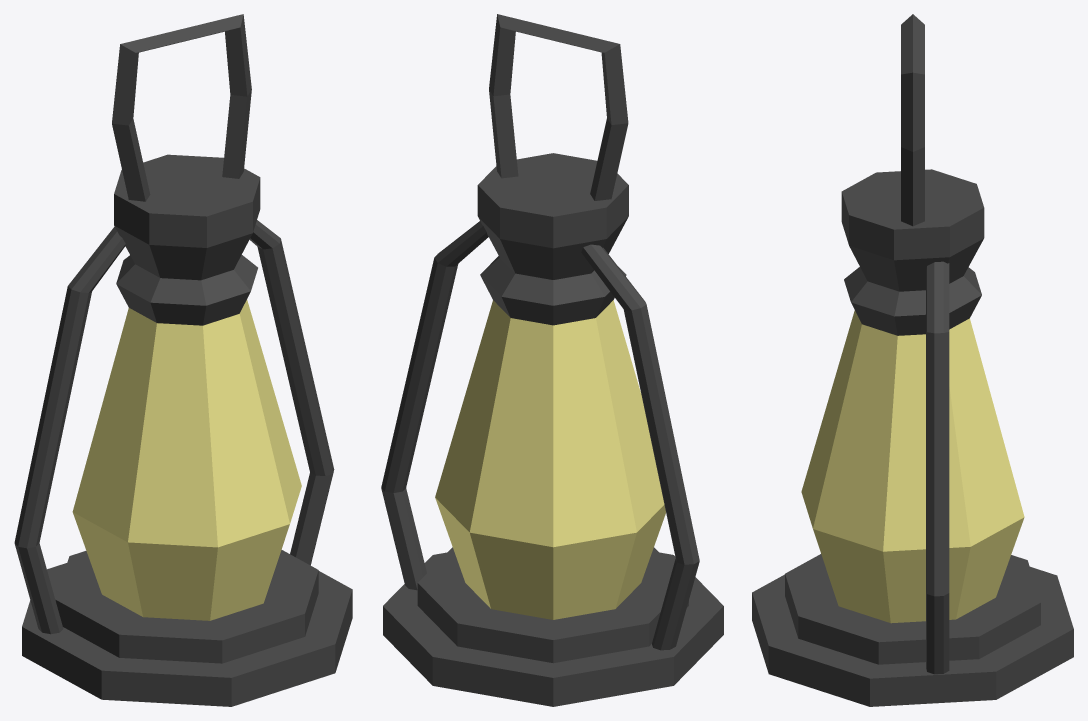
File: Lump_5.fbx
The picture shows the model from 3 angles, left to right: view 1: azimuth 30°, elevation 25°; view 2: azimuth 150°, elevation 25°; view 3: azimuth 270°, elevation 25°; orthographic projection. The views are drawn at different scales.
Visible parts, largest first — view 1: Lump_5; view 2: Lump_5; view 3: Lump_5.
Boxes of the visible parts, box(x1,y1,x2,y2) form: Lump_5: box(14, 14, 352, 706); Lump_5: box(381, 14, 723, 706); Lump_5: box(752, 14, 1073, 706).
Bounding box in the file's own units: 36.58 × 33.12 × 67.37.
